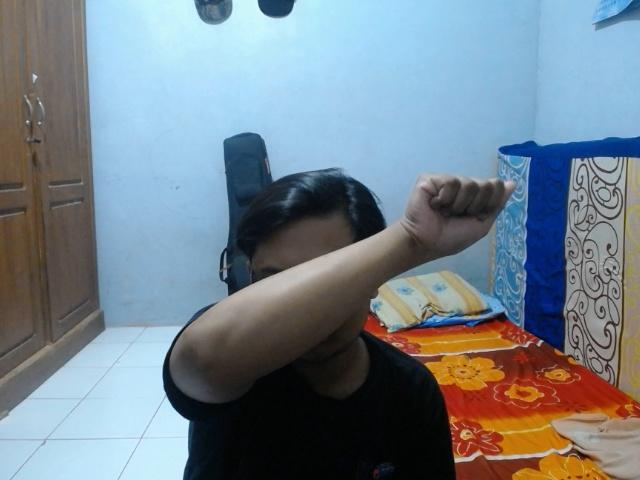Grab: (401, 169, 520, 261)
